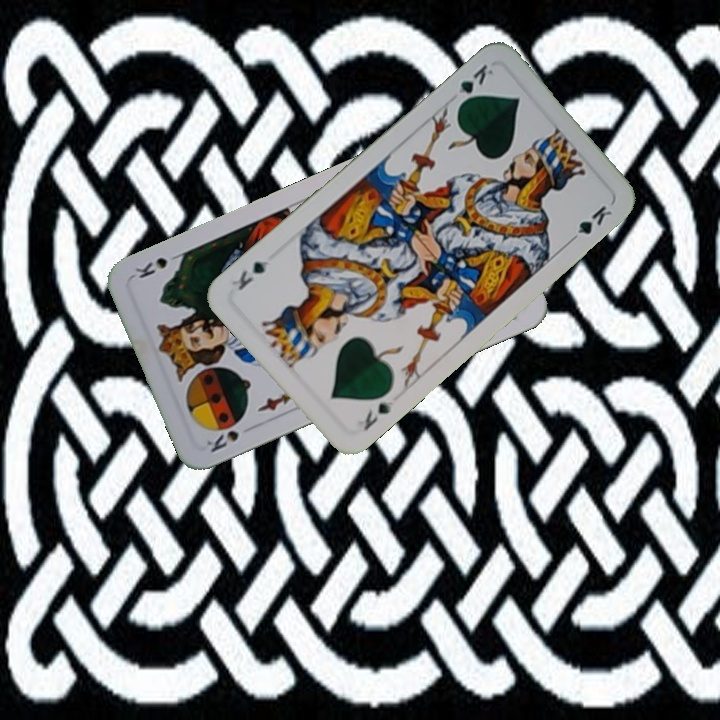GK: (453, 60, 496, 110), (359, 396, 395, 434)
SK: (202, 426, 242, 455)
